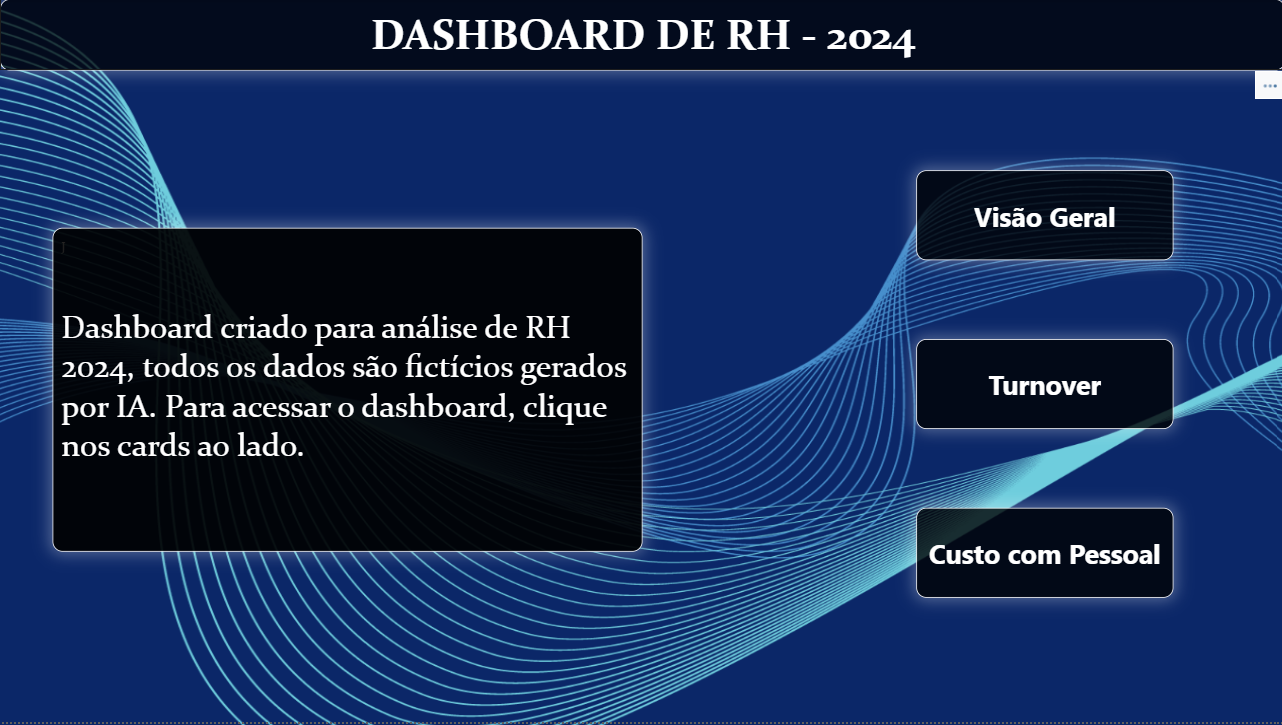

The page's visual inventory and layout, read from the dashboard file:
{"tool":"powerbi","page":{"name":"Capa","canvas":[1280,720],"ordinal":0},"visuals":[{"type":"textbox","title":"hffhfffffff","box":[0,0,1280,70.9],"z":0},{"type":"textbox","box":[52.2,227.6,587.1,322.2],"z":1000},{"type":"actionButton","box":[911.3,170.2,256.3,89.6],"z":2000},{"type":"actionButton","box":[911.3,338.1,256.3,89.6],"z":3000},{"type":"actionButton","box":[911.3,506,256.3,89.6],"z":4000}]}

Visuals, with their boxes in screenshot pixels (x1, y1, x2, y2), scaled from the page's 1280x720 canvas onto the 1282x725 screenshot:
"hffhfffffff" textbox: <box>0,0,1281,71</box>
textbox: <box>52,229,640,554</box>
actionButton: <box>913,171,1169,262</box>
actionButton: <box>913,340,1169,431</box>
actionButton: <box>913,510,1169,600</box>
